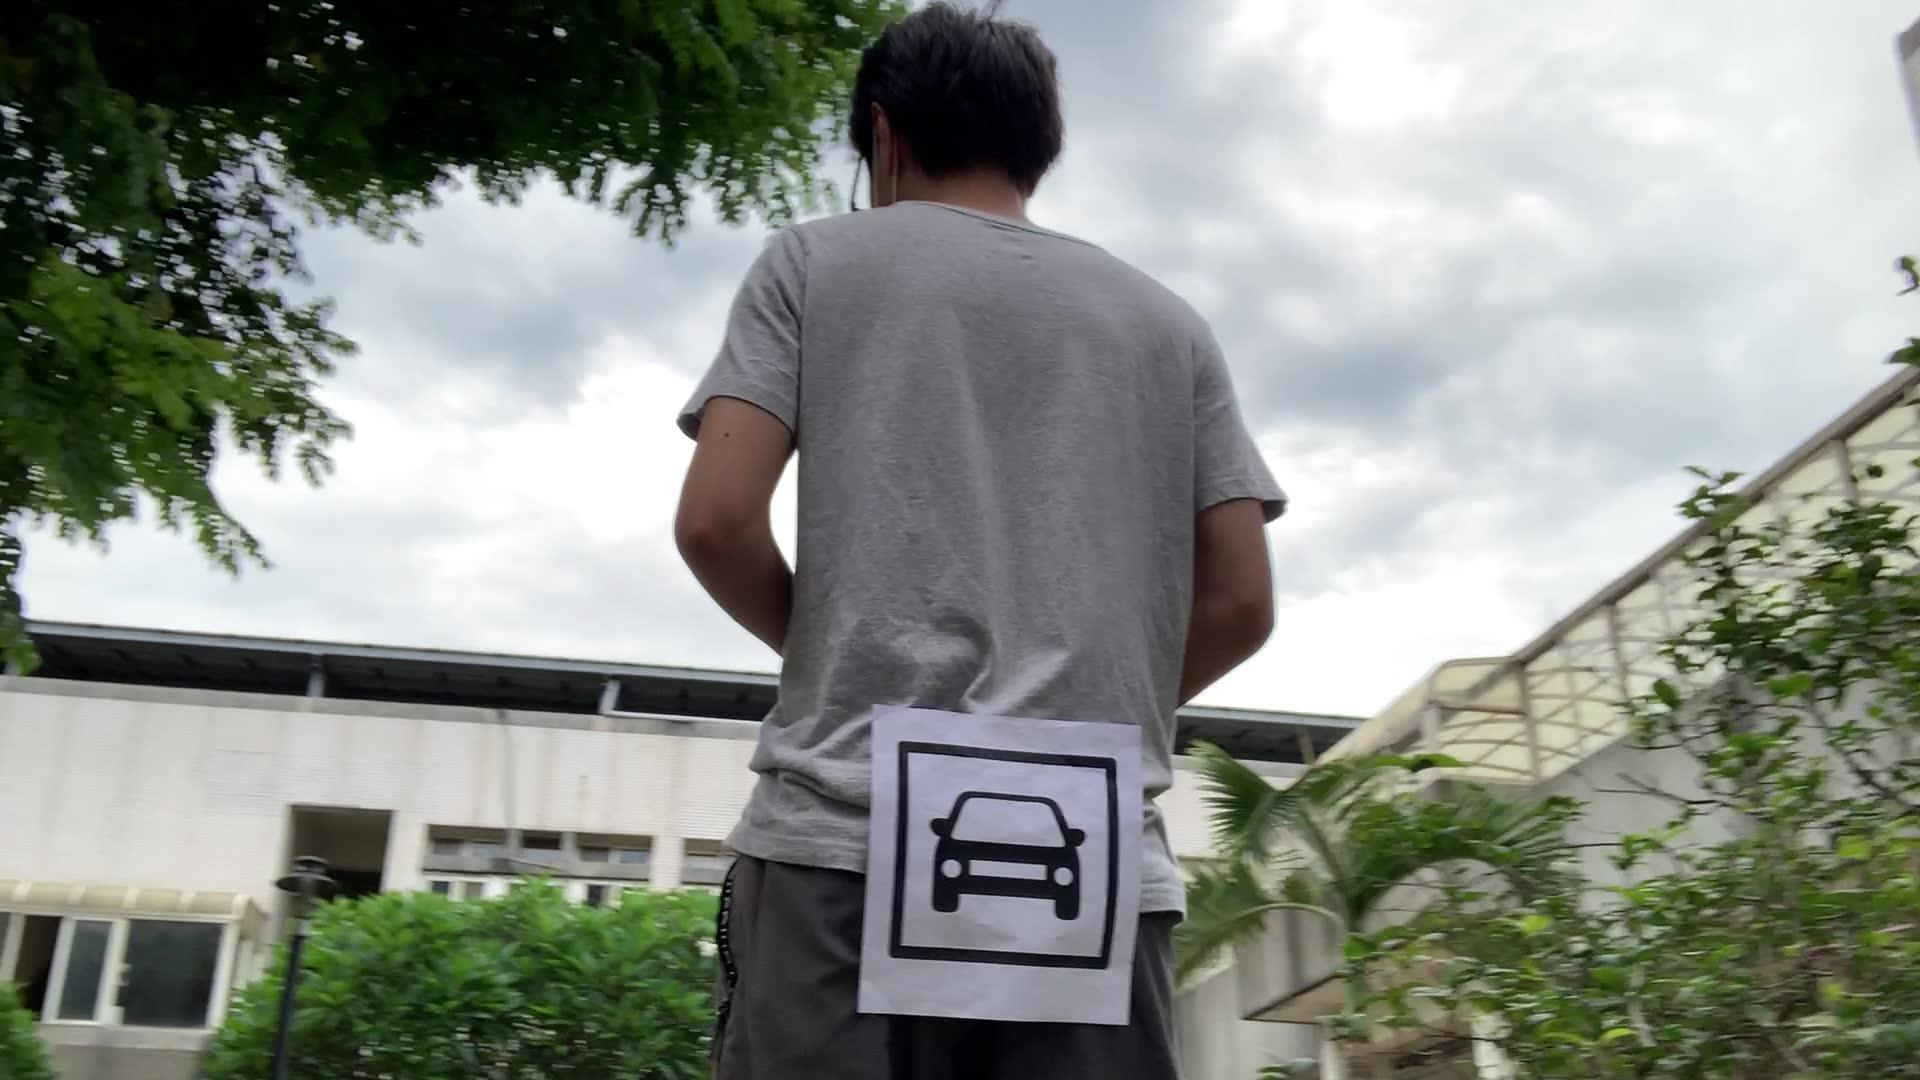car_img: (889, 737, 1121, 972)
